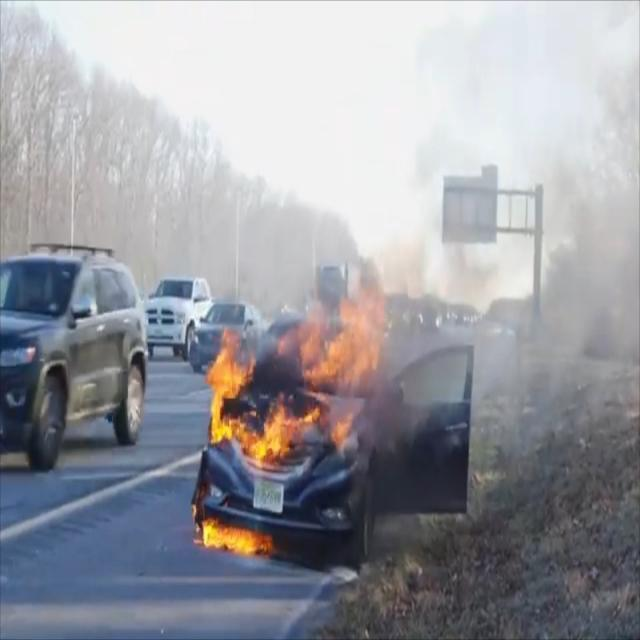fire: (188, 270, 394, 558)
